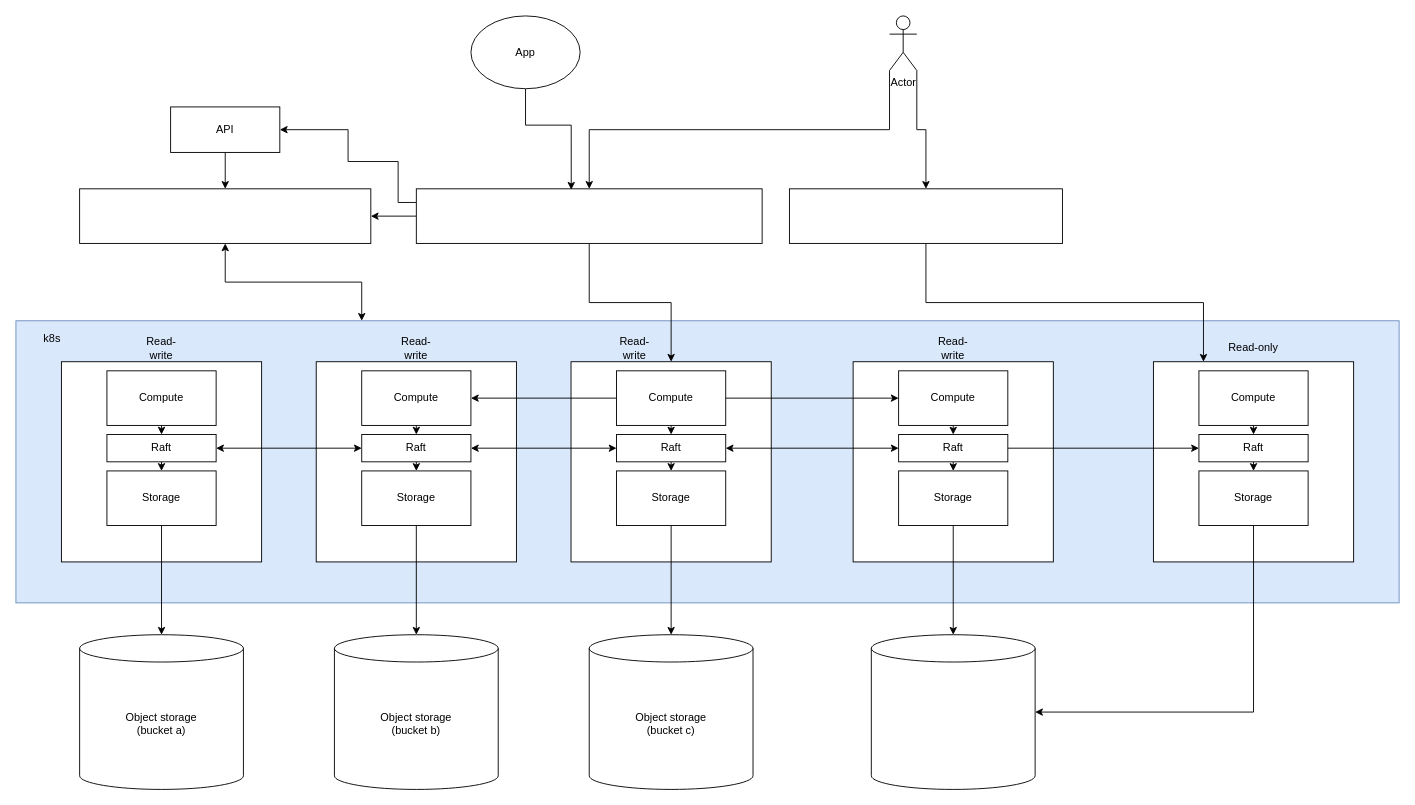
This 1415x805 diagram has some shape labels left out. Each missing label, with the centre of its shape:
Apache flight: (925,215)
Control Plane: (225,215)
Object storage (bucket d): (952,711)
pgsrv proxy: (588,215)
